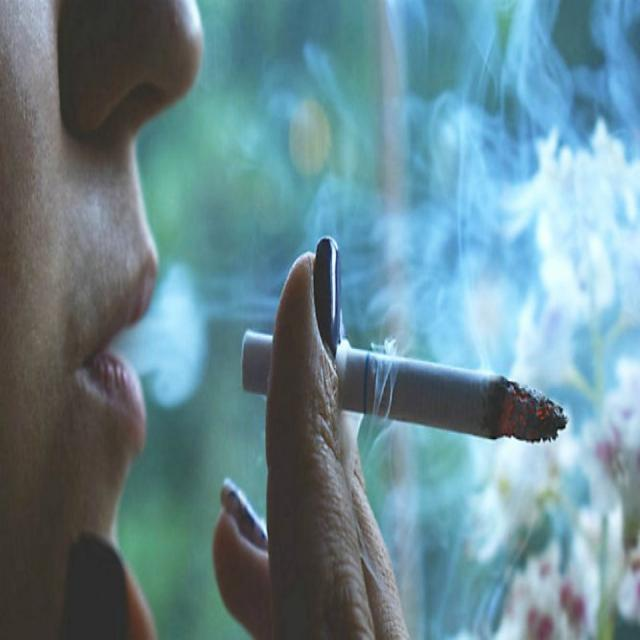Cigarette: (240, 322, 574, 447)
